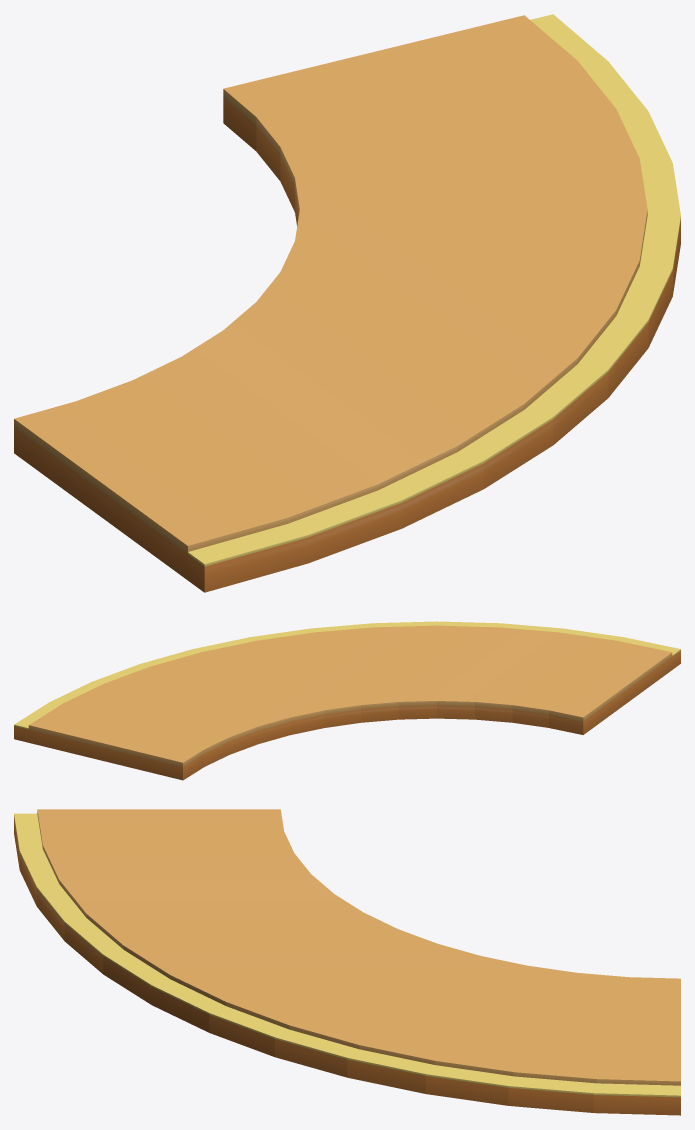
File: BeachCorner.fbx
The picture shows the model from 3 angles, top to bottom: view 1: azimuth 30°, elevation 25°; view 2: azimuth 150°, elevation 25°; view 3: azimuth 270°, elevation 25°; orthographic projection. The views are drawn at different scales.
Visible parts, largest first — view 1: BeachCorner; view 2: BeachCorner; view 3: BeachCorner.
Boxes of the visible parts, bbox=[...] form: BeachCorner: bbox=[14, 14, 680, 592]; BeachCorner: bbox=[14, 621, 680, 780]; BeachCorner: bbox=[14, 809, 680, 1115].
Bounding box in the file's own units: 20 × 0.8 × 20.
Materials: 1 (1 with a texture image).
